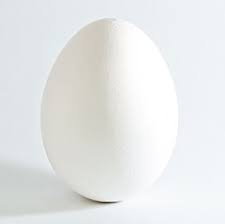eggs: (42, 15, 175, 207)
